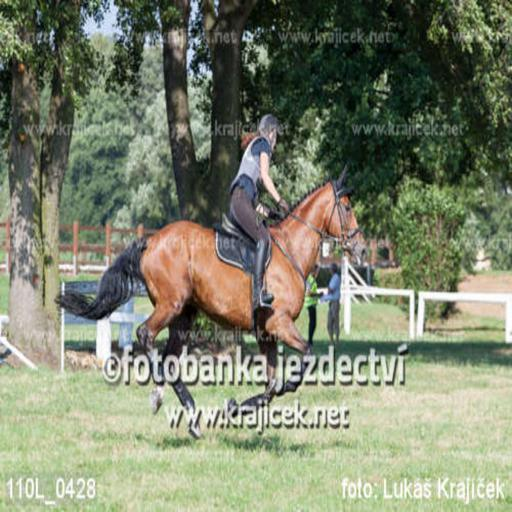horse: (55, 164, 370, 438)
